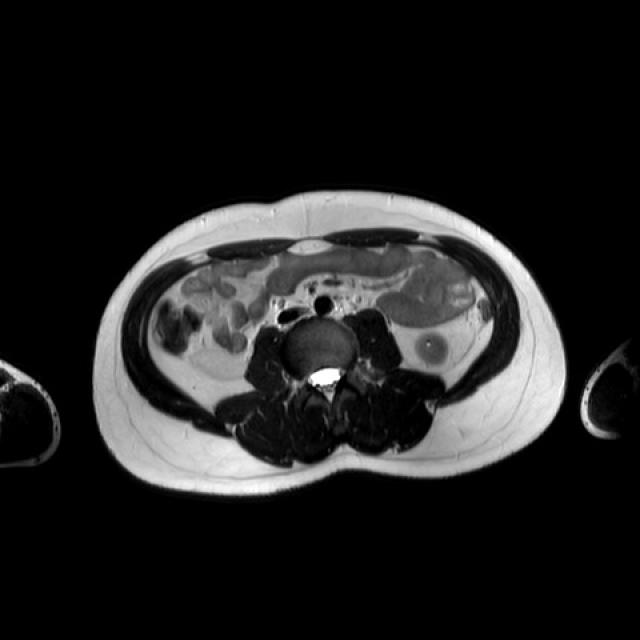sol: (417, 332, 450, 364)
